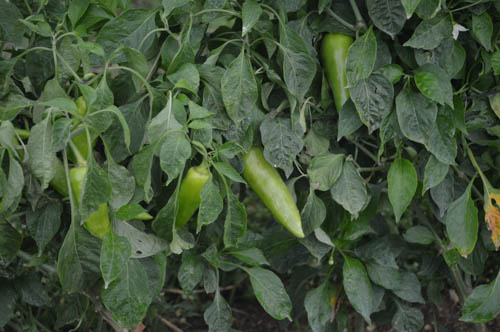ChiliPepper: (238, 147, 305, 245), (166, 159, 214, 241), (314, 31, 356, 124), (66, 162, 116, 240), (62, 89, 104, 160)
